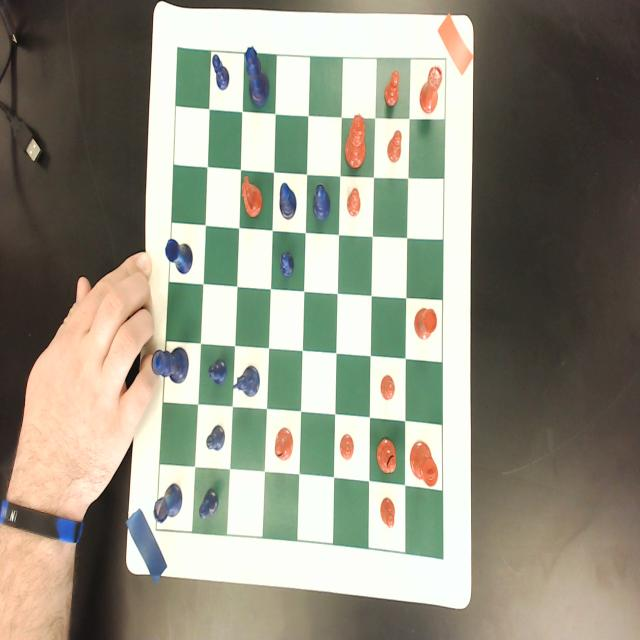B: (312, 183, 331, 221), (279, 182, 297, 220)
K: (152, 345, 189, 384)
N: (232, 363, 260, 398)
P: (199, 486, 219, 521), (212, 53, 229, 91), (206, 424, 226, 452), (208, 358, 227, 386), (280, 251, 294, 278)
Q: (244, 45, 270, 107)
R: (154, 482, 182, 523), (165, 238, 193, 274)
b: (377, 439, 397, 476), (274, 427, 294, 461)
cb: (156, 48, 446, 559)
k: (410, 440, 439, 488)
n: (241, 176, 263, 219)
p: (384, 69, 399, 107), (380, 495, 396, 529), (387, 129, 402, 163), (380, 374, 396, 401), (347, 187, 361, 217), (340, 432, 354, 460)
q: (345, 114, 366, 168)
r: (418, 64, 443, 114), (413, 307, 439, 342)
